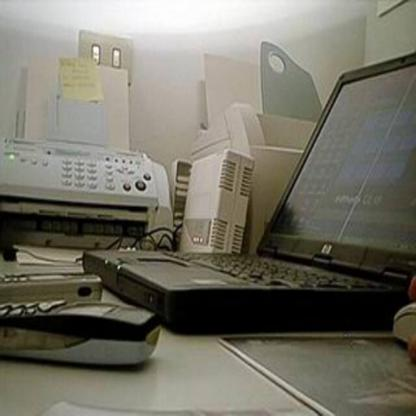board: (83, 51, 415, 330)
